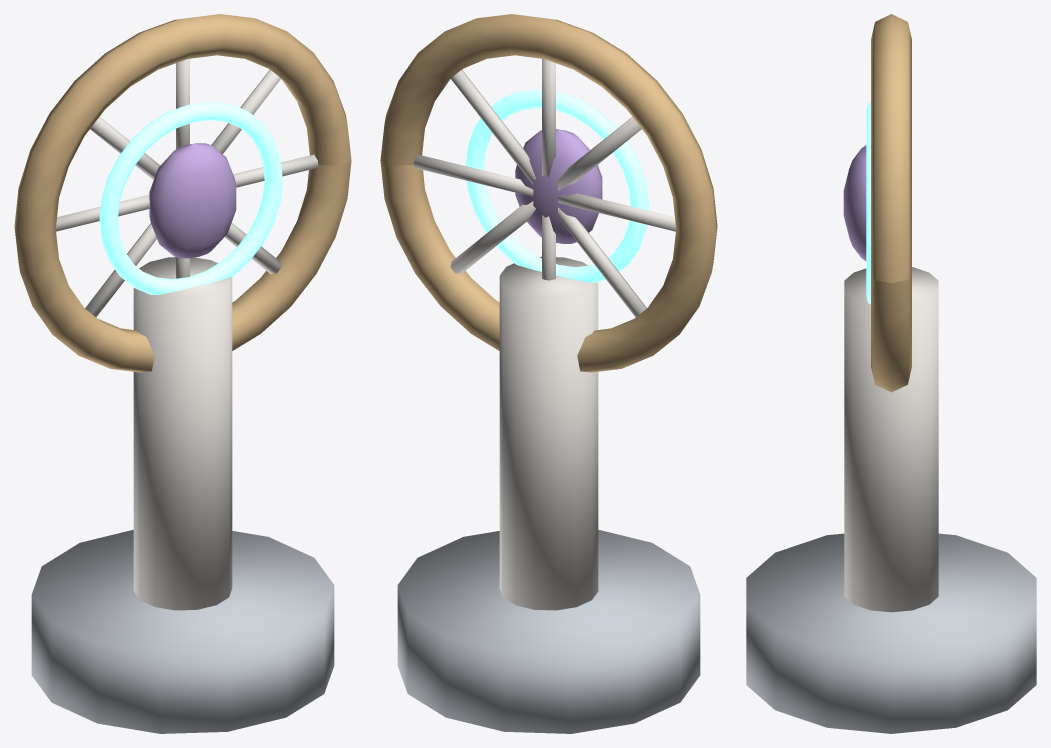
Rendered from way_songwheel.glb.
3 views of the same model, side by side, from view 1: azimuth 30°, elevation 25°; view 2: azimuth 150°, elevation 25°; view 3: azimuth 270°, elevation 25° (orthographic).
Visible parts, largest first — view 1: WAY_songwheel_base, WAY_songwheel_gold_wheel, WAY_songwheel_stand, WAY_songwheel_inner, WAY_songwheel_heart, WAY_songwheel_spoke_5, WAY_songwheel_spoke_1, WAY_songwheel_spoke_4, WAY_songwheel_spoke_3, WAY_songwheel_spoke_0, WAY_songwheel_spoke_2, WAY_songwheel_spoke_7; view 2: WAY_songwheel_base, WAY_songwheel_gold_wheel, WAY_songwheel_stand, WAY_songwheel_inner, WAY_songwheel_heart, WAY_songwheel_spoke_5, WAY_songwheel_spoke_1, WAY_songwheel_spoke_0, WAY_songwheel_spoke_4, WAY_songwheel_spoke_7, WAY_songwheel_spoke_3, WAY_songwheel_spoke_2 (+1 smaller); view 3: WAY_songwheel_base, WAY_songwheel_stand, WAY_songwheel_gold_wheel, WAY_songwheel_heart, WAY_songwheel_inner.
Part boxes in pixels (left/top/right/bottom): WAY_songwheel_base: left=31, top=529, right=334, bottom=733; WAY_songwheel_gold_wheel: left=14, top=14, right=351, bottom=372; WAY_songwheel_stand: left=133, top=257, right=232, bottom=610; WAY_songwheel_inner: left=99, top=101, right=282, bottom=295; WAY_songwheel_heart: left=149, top=143, right=236, bottom=258; WAY_songwheel_spoke_5: left=85, top=223, right=156, bottom=317; WAY_songwheel_spoke_1: left=211, top=70, right=281, bottom=153; WAY_songwheel_spoke_4: left=56, top=195, right=149, bottom=231; WAY_songwheel_spoke_3: left=90, top=117, right=160, bottom=179; WAY_songwheel_spoke_0: left=233, top=154, right=318, bottom=187; WAY_songwheel_spoke_2: left=176, top=58, right=189, bottom=148; WAY_songwheel_spoke_7: left=225, top=223, right=281, bottom=273; WAY_songwheel_base: left=397, top=529, right=700, bottom=733; WAY_songwheel_gold_wheel: left=380, top=14, right=717, bottom=372; WAY_songwheel_stand: left=499, top=256, right=598, bottom=610; WAY_songwheel_inner: left=466, top=89, right=648, bottom=282; WAY_songwheel_heart: left=515, top=129, right=602, bottom=243; WAY_songwheel_spoke_5: left=555, top=207, right=646, bottom=317; WAY_songwheel_spoke_1: left=450, top=70, right=535, bottom=184; WAY_songwheel_spoke_0: left=413, top=154, right=533, bottom=196; WAY_songwheel_spoke_4: left=558, top=193, right=675, bottom=231; WAY_songwheel_spoke_7: left=450, top=201, right=535, bottom=273; WAY_songwheel_spoke_3: left=555, top=117, right=641, bottom=190; WAY_songwheel_spoke_2: left=542, top=58, right=555, bottom=177; WAY_songwheel_base: left=746, top=533, right=1036, bottom=733; WAY_songwheel_stand: left=844, top=267, right=938, bottom=612; WAY_songwheel_gold_wheel: left=871, top=14, right=911, bottom=392; WAY_songwheel_heart: left=843, top=145, right=866, bottom=260; WAY_songwheel_inner: left=866, top=102, right=870, bottom=304.
Size of the model in its own units: 1.17 by 2.18 by 0.8969.
